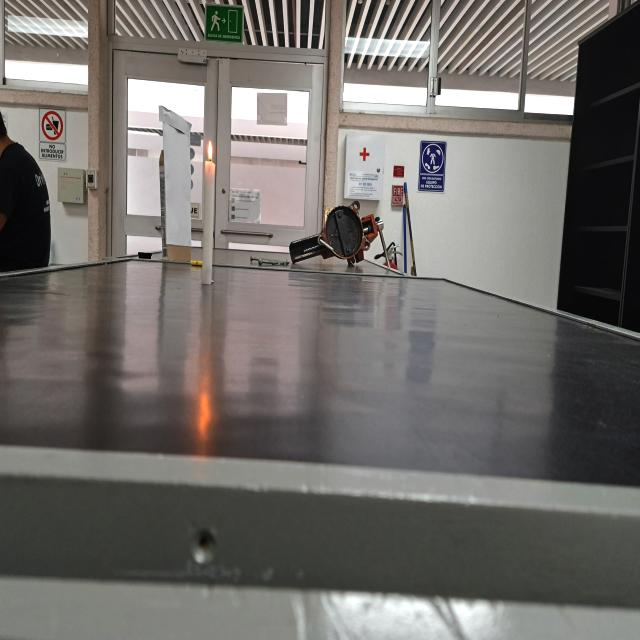candle: (202, 138, 217, 284)
wall: (164, 106, 192, 262)
